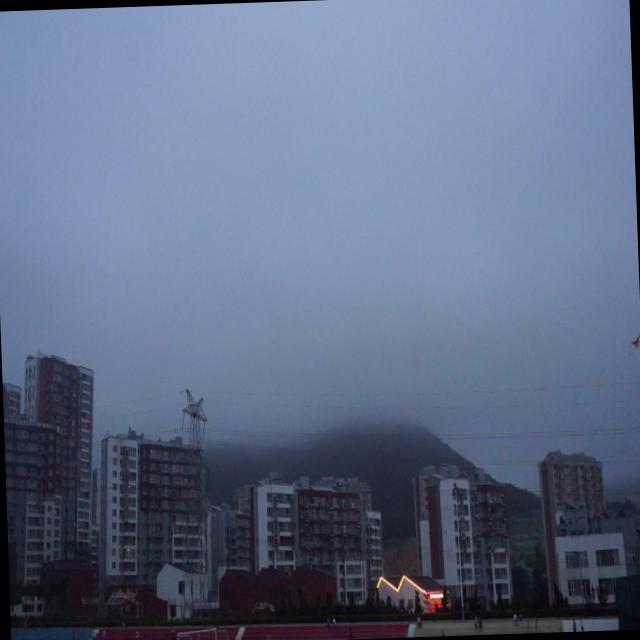drone: (629, 328, 640, 356)
